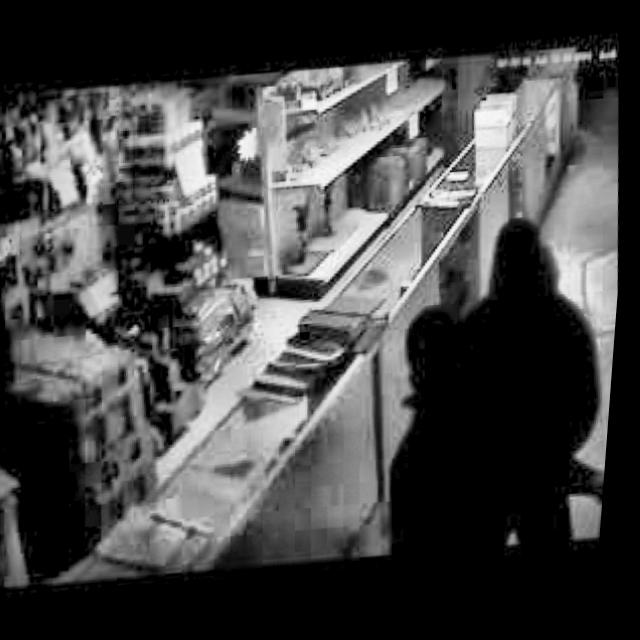burglary: (367, 206, 628, 554)
